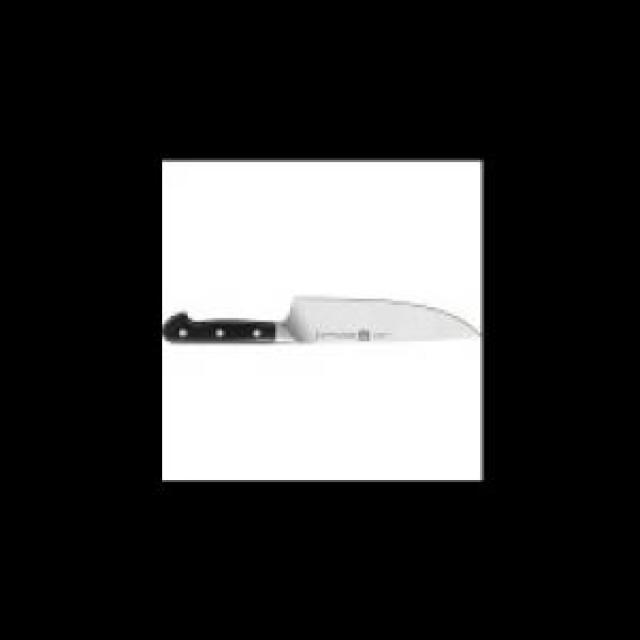knife: (164, 294, 481, 358)
